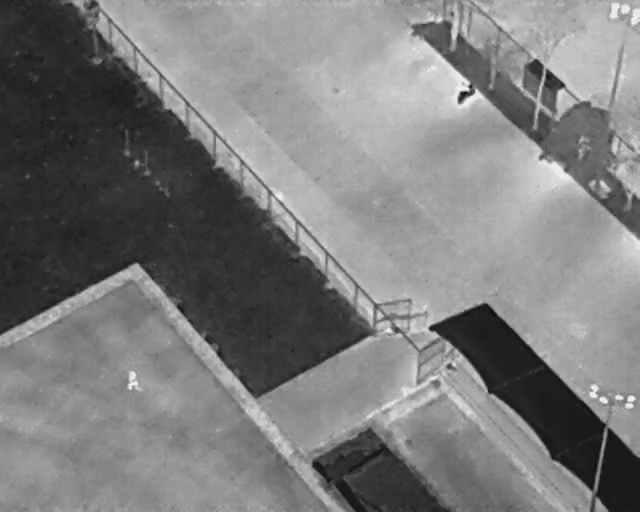Bicycle: (450, 78, 482, 109)
Person: (126, 368, 139, 393), (606, 2, 621, 22), (628, 8, 640, 27), (620, 3, 631, 16)
